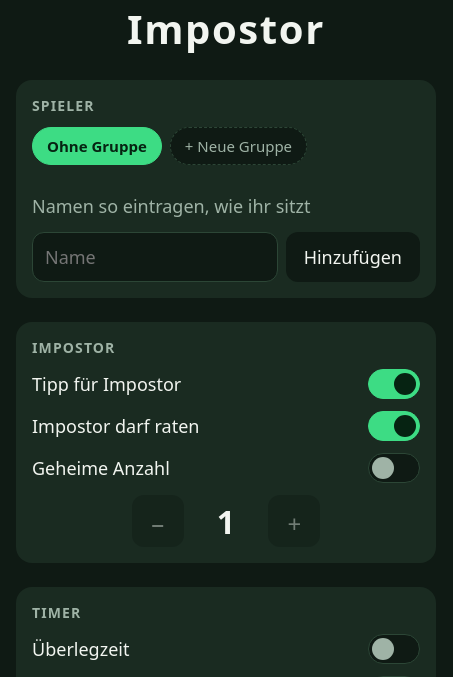
Test: SetupScreen › lässt das Namensfeld nach Enter und nach „Hinzufügen“ aktiv, damit die Tastatur offen bleibt
In the field labelled "Name": (155, 257) x1=32 y1=232 x2=278 y2=282, type "Anna"
Then press Enter
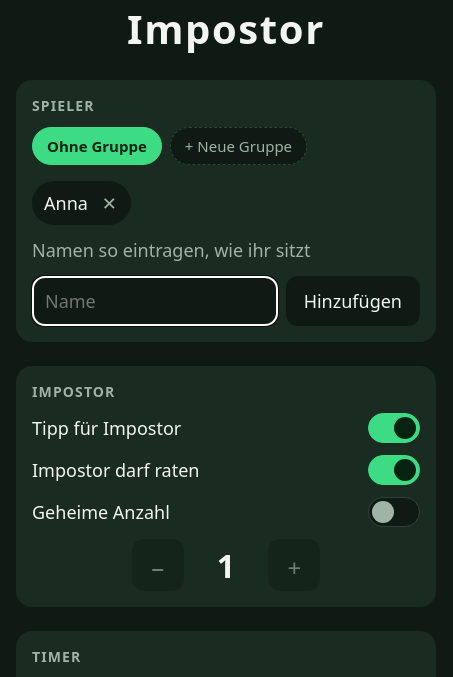
In the field labelled "Name": (155, 301) x1=32 y1=276 x2=278 y2=326, type "Ben"
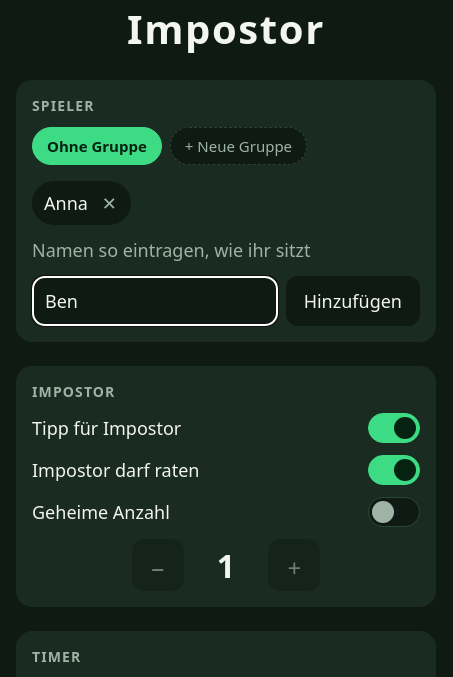
Click the button "Hinzufügen": (353, 301) x1=286 y1=276 x2=420 y2=326
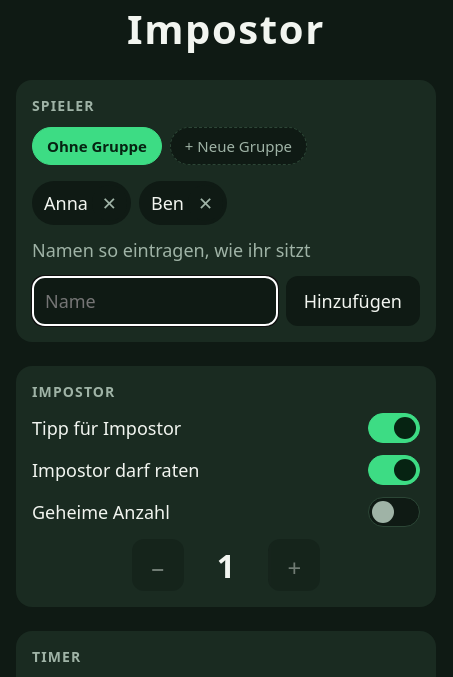
Check: the text "Ben" is shown, box x1=151 y1=191 x2=184 y2=215
